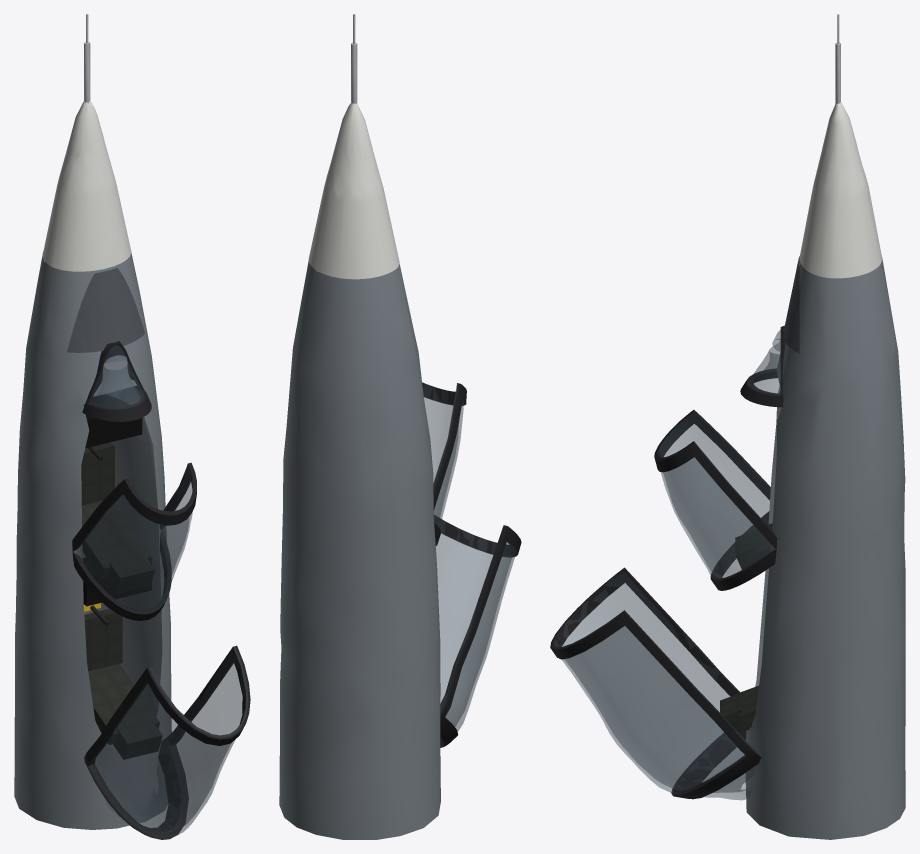
Rendered from cockpit01_tandem_canopy_open.glb.
The picture shows the model from 3 angles, left to right: view 1: azimuth 30°, elevation 25°; view 2: azimuth 150°, elevation 25°; view 3: azimuth 270°, elevation 25°; orthographic projection. The views are drawn at different scales.
Parts seen in each view (by area): view 1: fuselage, rear_canopy_glass, radome, front_canopy_glass, rear_canopy_frame, rear_seat, front_seat, front_canopy_frame, antiglare_panel, windscreen_glass, windscreen_frame, front_panel (+2 smaller); view 2: fuselage, radome, rear_canopy_glass, rear_canopy_frame, front_canopy_glass, front_canopy_frame, pitot_probe; view 3: fuselage, rear_canopy_glass, front_canopy_glass, radome, rear_canopy_frame, front_canopy_frame, windscreen_frame, rear_seat, windscreen_glass, front_seat, antiglare_panel.
Part boxes in pixels (x1,y1,x2,y2): fuselage: (14, 252, 171, 829); rear_canopy_glass: (90, 646, 247, 837); radome: (42, 101, 131, 271); front_canopy_glass: (76, 466, 192, 611); rear_canopy_frame: (84, 645, 250, 839); rear_seat: (84, 608, 162, 759); front_seat: (81, 442, 154, 593); front_canopy_frame: (72, 462, 196, 620); antiglare_panel: (67, 268, 144, 352); windscreen_glass: (89, 342, 144, 409); windscreen_frame: (82, 341, 151, 421); front_panel: (85, 394, 142, 448); fuselage: (279, 261, 440, 839); radome: (308, 102, 399, 279); rear_canopy_glass: (436, 519, 515, 746); rear_canopy_frame: (434, 515, 521, 747); front_canopy_glass: (423, 383, 463, 527); front_canopy_frame: (422, 382, 466, 545); pitot_probe: (351, 14, 357, 104); fuselage: (745, 255, 905, 839); rear_canopy_glass: (552, 569, 759, 800); front_canopy_glass: (658, 411, 773, 579); radome: (799, 102, 882, 278); rear_canopy_frame: (550, 567, 761, 799); front_canopy_frame: (654, 410, 777, 590); windscreen_frame: (740, 325, 785, 407); rear_seat: (720, 685, 758, 733); windscreen_glass: (749, 329, 784, 394); front_seat: (735, 523, 772, 569); antiglare_panel: (784, 256, 799, 353).
Size of the model in its own units: 1.25 by 6.8 by 2.77.
Materials: 9 (2 with a texture image).
